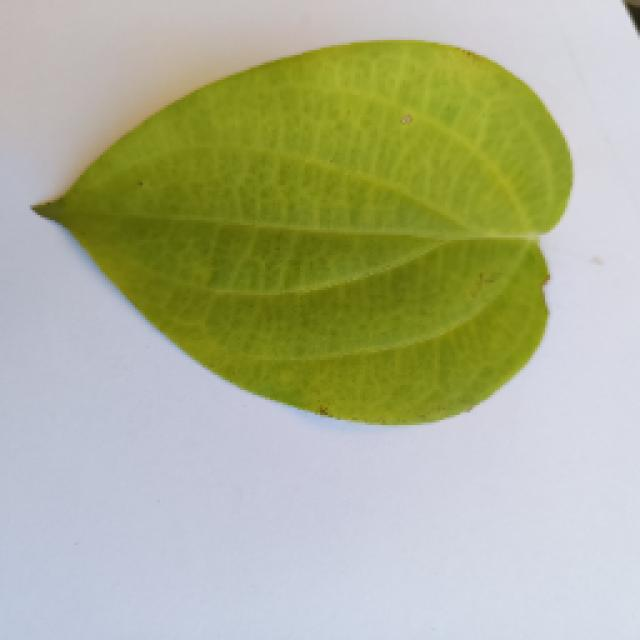slow-decline: (30, 38, 570, 422)
